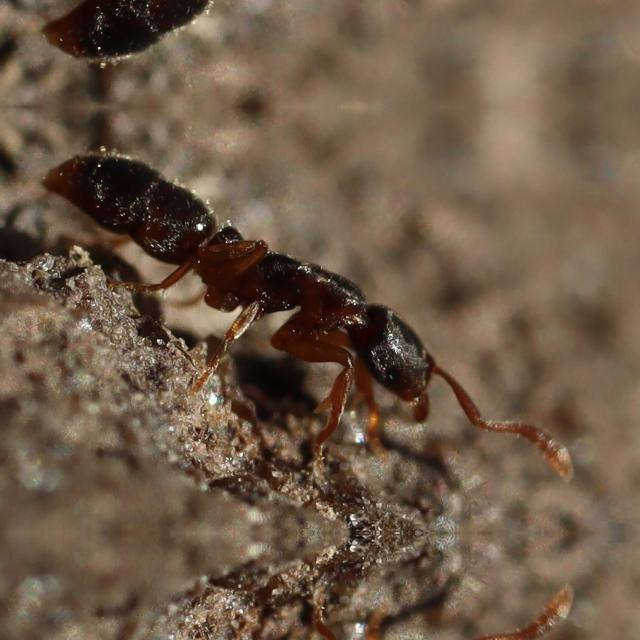Ponera: (67, 116, 529, 438), (67, 0, 529, 94)
